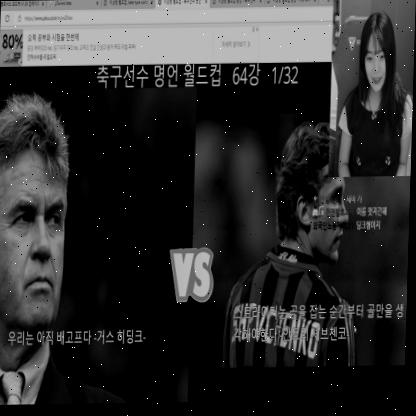streamer: (338, 9, 416, 178)
